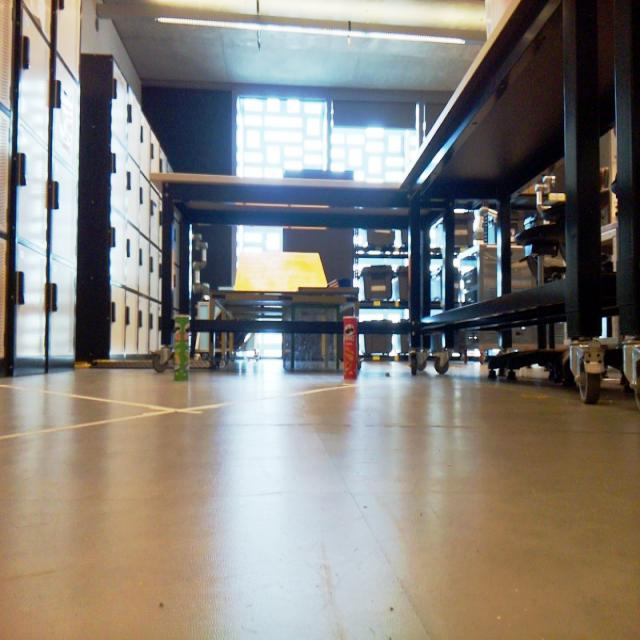greenpringles: (167, 307, 199, 383)
redpringles: (332, 312, 368, 384)
